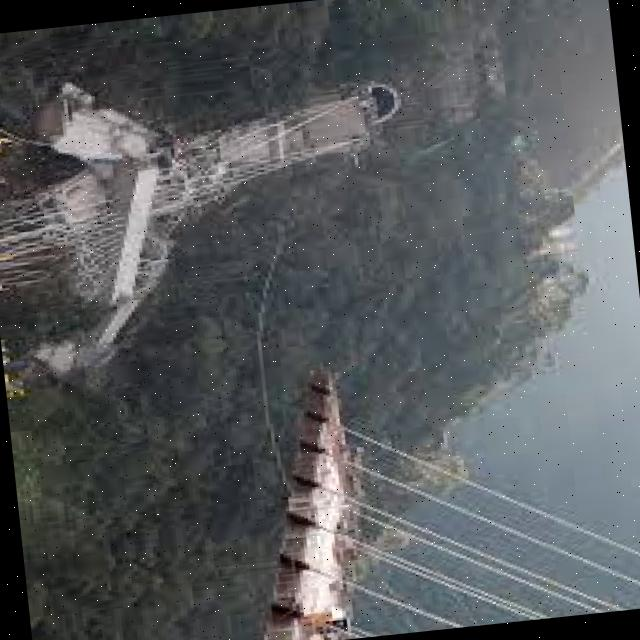bridge collapse: (0, 35, 494, 640)
